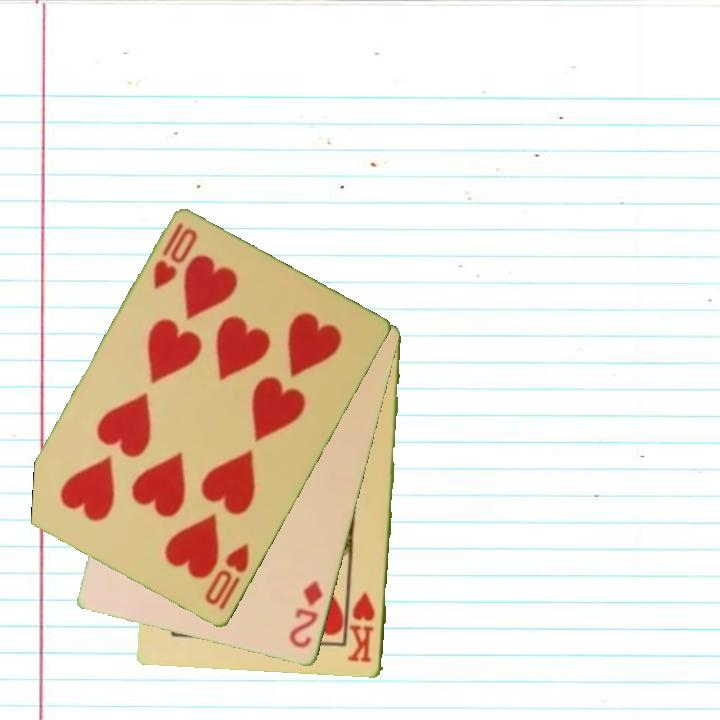10h: (201, 540, 253, 614), (149, 220, 201, 293)
2d: (286, 577, 326, 652)
Kh: (345, 589, 378, 665)
